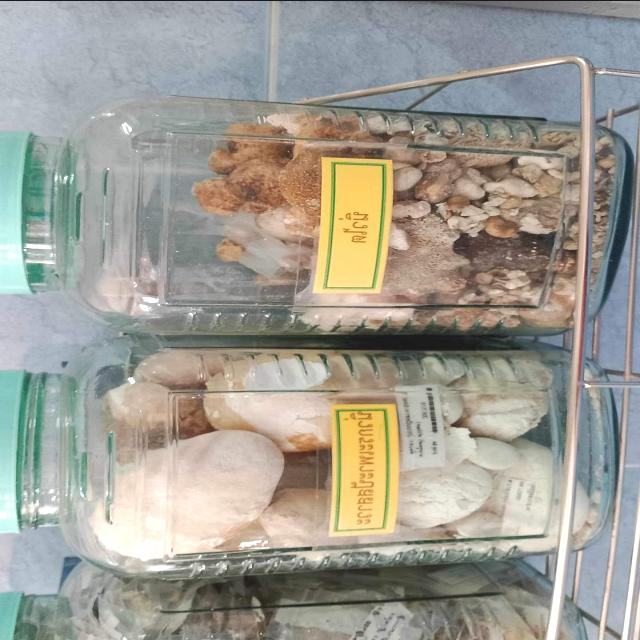General: (3, 55, 635, 634), (3, 92, 631, 337)
Pathological: (58, 342, 612, 578)
Sharps: (163, 126, 567, 160)
